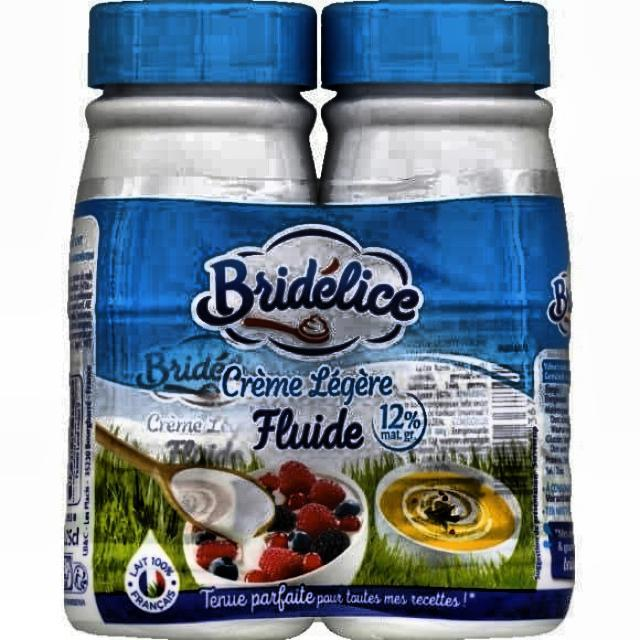cardboard: (61, 0, 578, 639)
